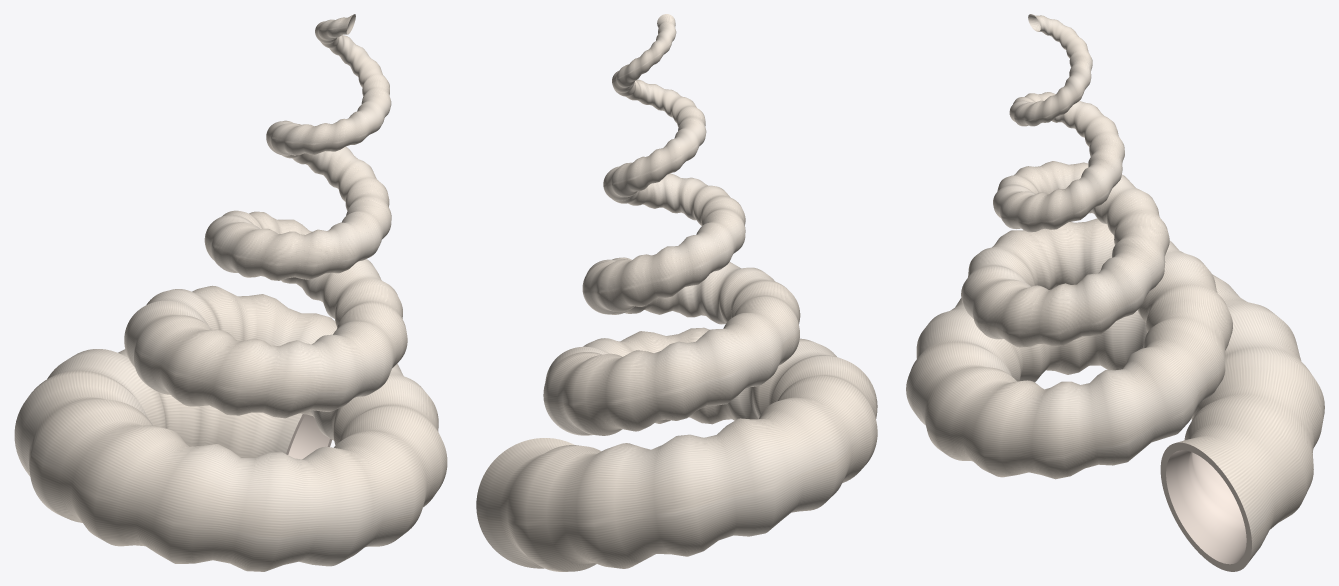
File: wentletrap.glb
3 views of the same model, side by side, from view 1: azimuth 30°, elevation 25°; view 2: azimuth 150°, elevation 25°; view 3: azimuth 270°, elevation 25° (orthographic). The views are drawn at different scales.
Parts seen in each view (by area): view 1: wentletrap.001; view 2: wentletrap.001; view 3: wentletrap.001.
Boxes of the visible parts, box(x1,y1,x2,y2) form: wentletrap.001: box(14, 14, 447, 571); wentletrap.001: box(476, 14, 877, 571); wentletrap.001: box(906, 14, 1324, 571).
Size of the model in its own units: 1.38 by 2.13 by 1.51.
3 materials, 1 textured.
